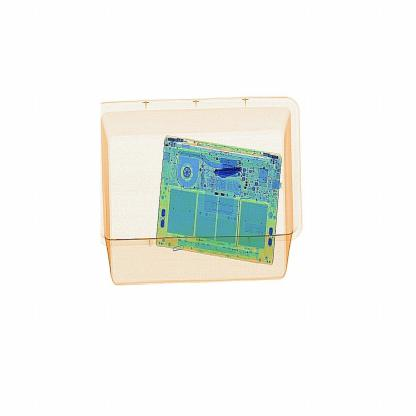knife: (202, 158, 254, 186)
